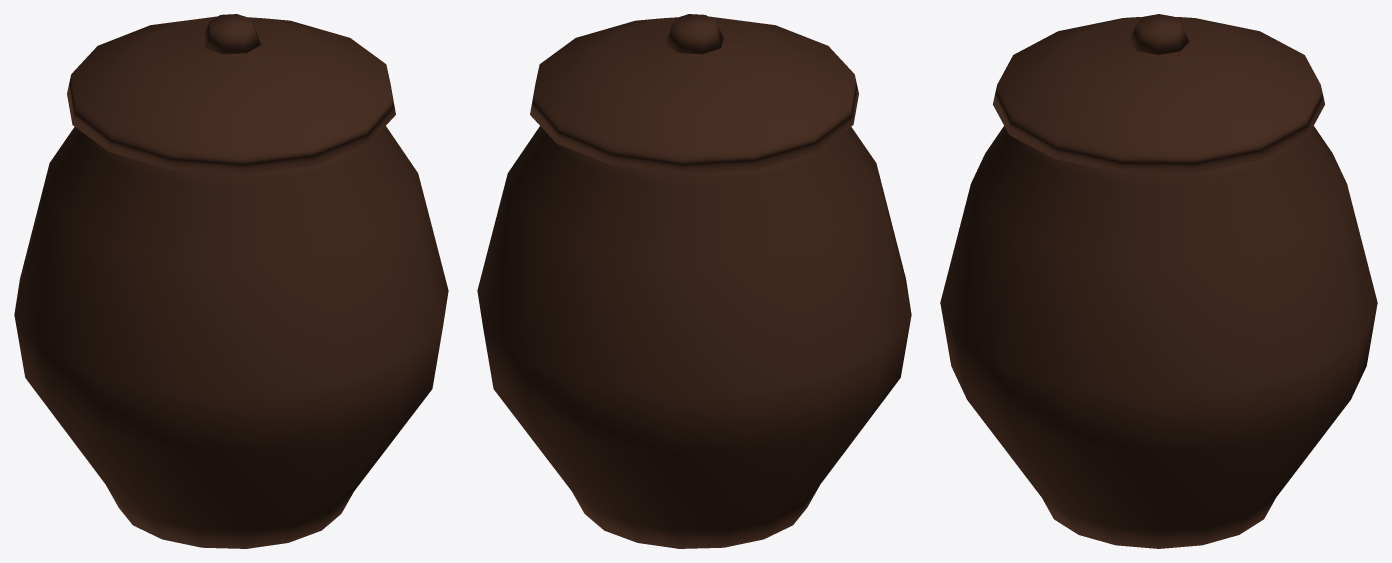
The model's file is onggi-medium.glb.
The picture shows the model from 3 angles, left to right: view 1: azimuth 30°, elevation 25°; view 2: azimuth 150°, elevation 25°; view 3: azimuth 270°, elevation 25°; orthographic projection.
Parts seen in each view (by area): view 1: onggi-jar-medium_0; view 2: onggi-jar-medium_0; view 3: onggi-jar-medium_0.
Boxes of the visible parts, x1,y1,x2,y2 form: onggi-jar-medium_0: (14,14,448,548); onggi-jar-medium_0: (477,14,911,548); onggi-jar-medium_0: (940,14,1377,548).
Bounding box in the file's own units: 0.58 × 0.7018 × 0.58.
